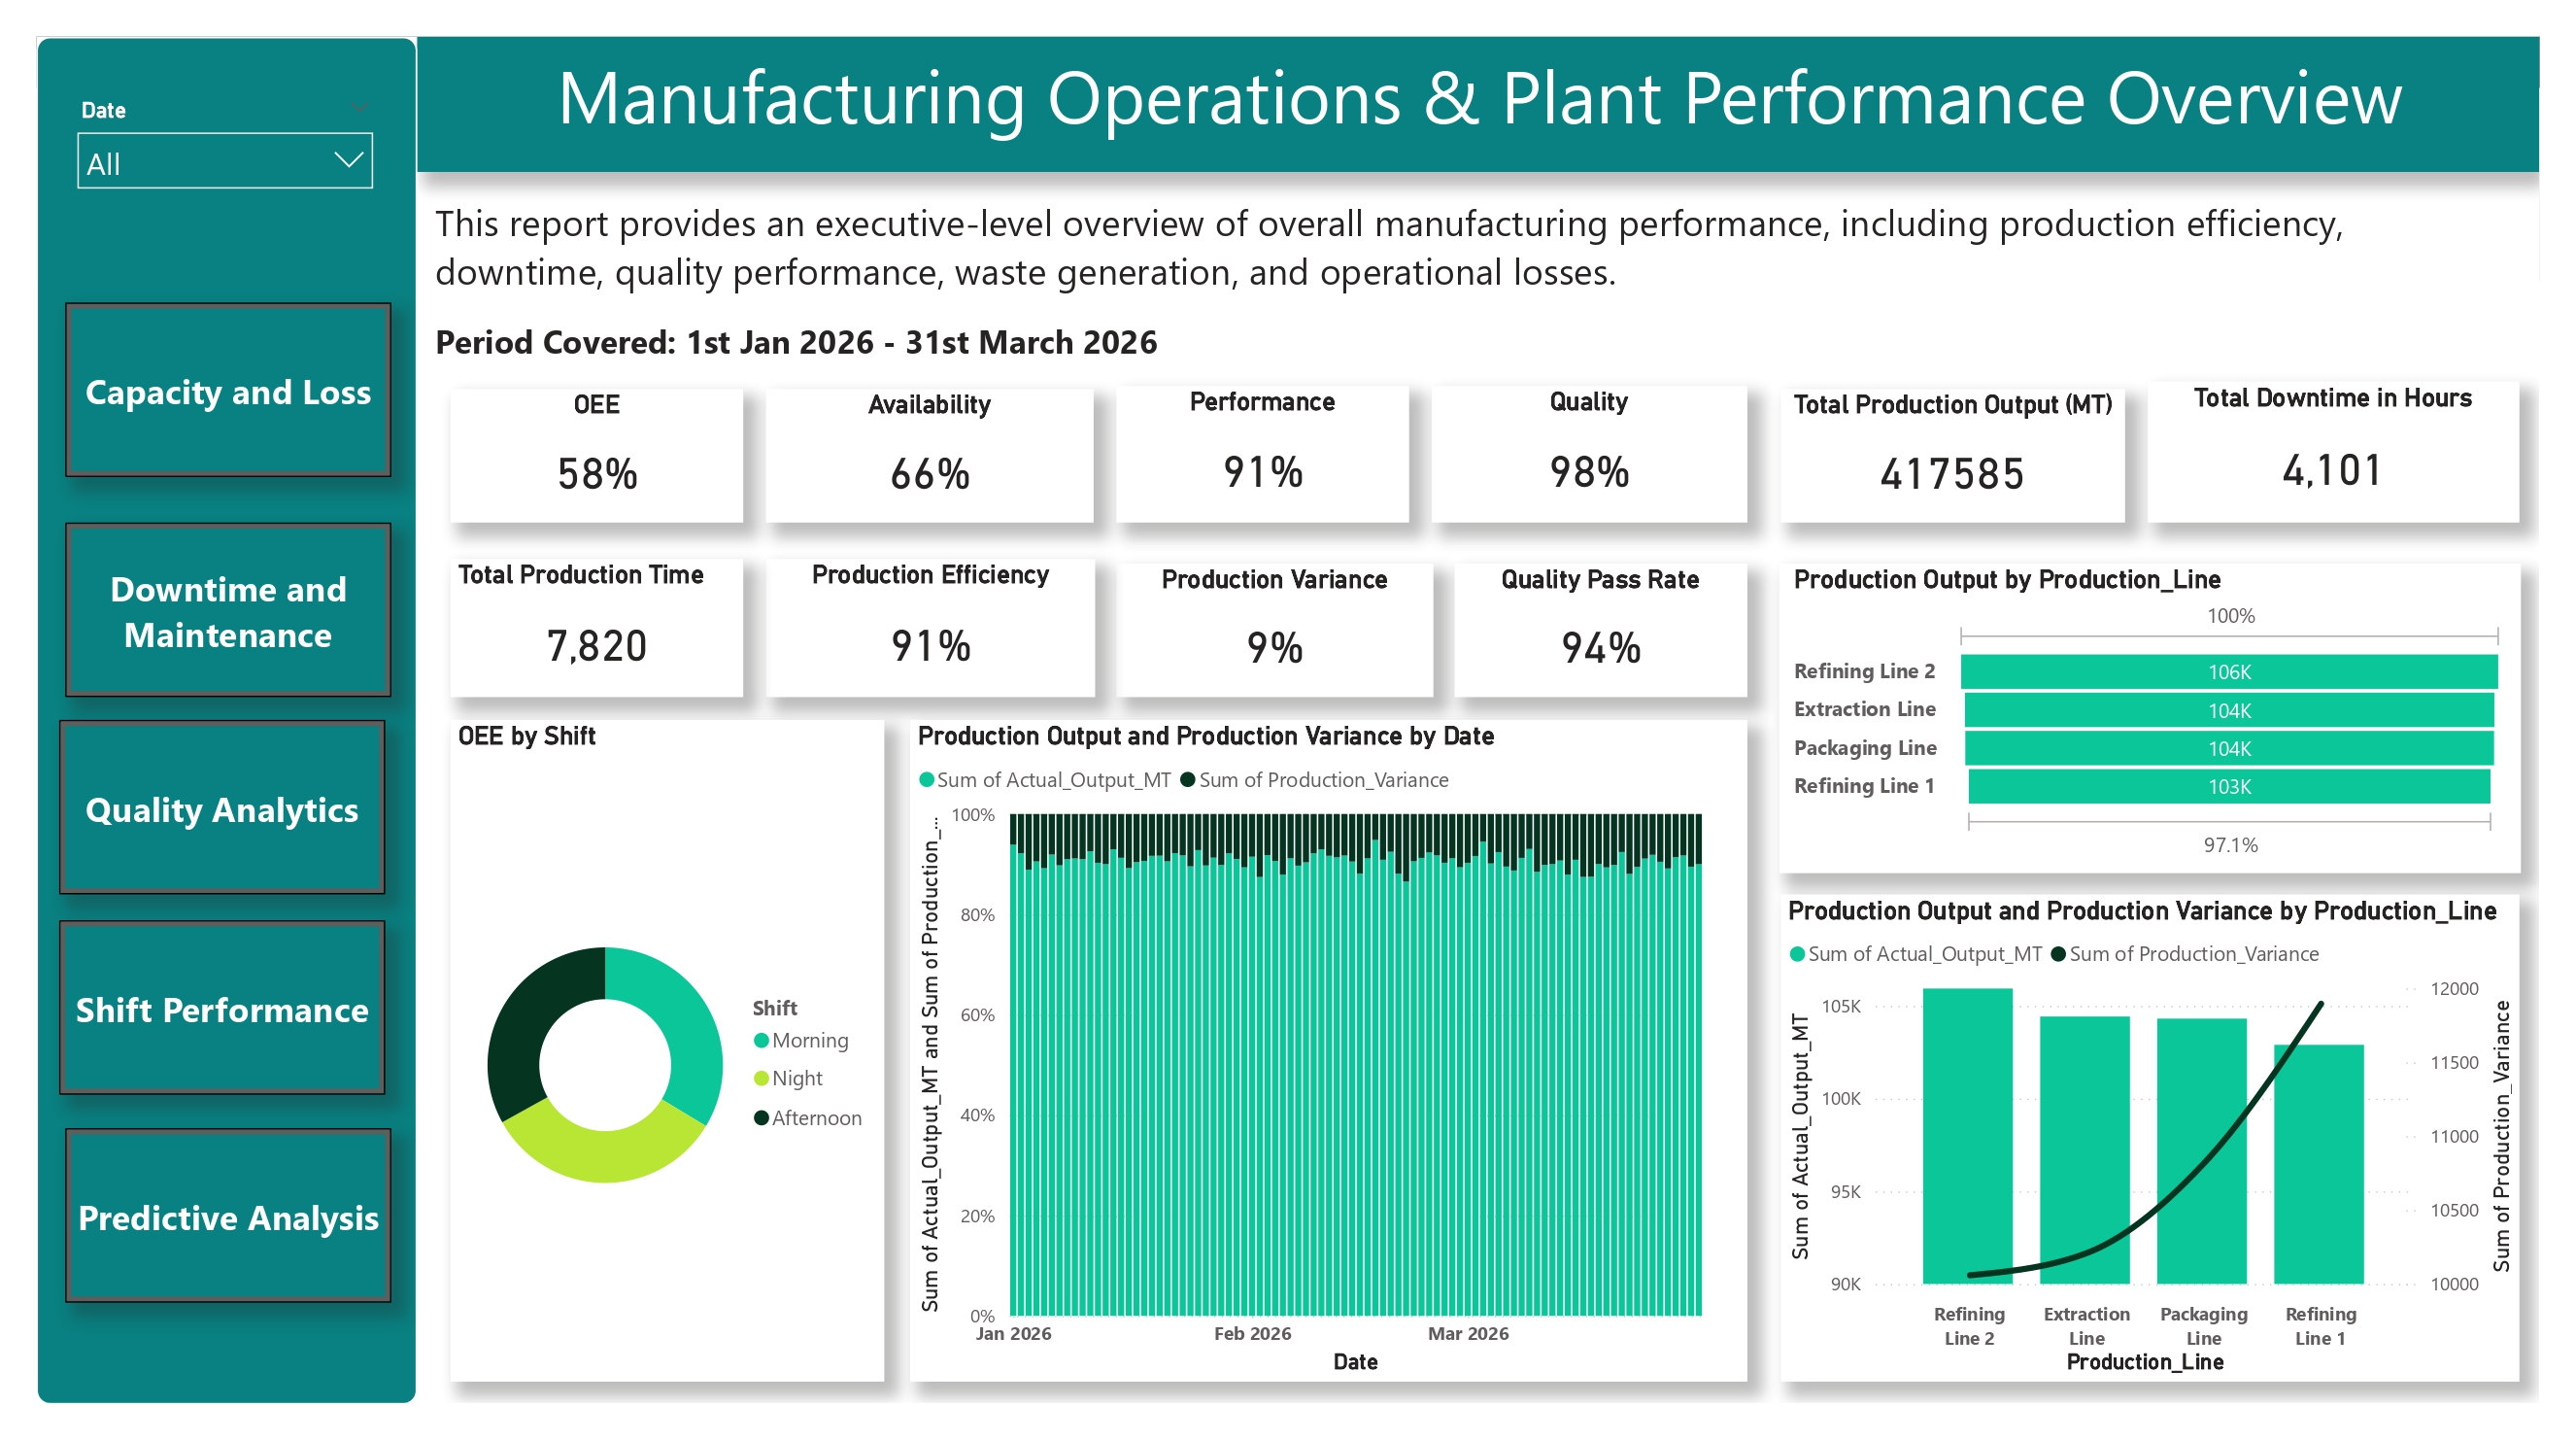

This screenshot's page, from the dashboard's own definition file:
{"tool":"powerbi","page":{"name":"Operations Overview","canvas":[1650,900],"ordinal":0},"visuals":[{"type":"card","title":"Production Variance","fields":{"Values":["Avg(Production_Data.Production_Loss(%))"]},"box":[711.6,346.5,209.3,88.4],"z":0},{"type":"card","title":"Production Efficiency ","fields":{"Values":["Avg(Production_Data.Efficiency_Percent)"]},"box":[481.4,344.2,216.3,90.7],"z":1000},{"type":"card","title":"Total Production Time ","fields":{"Values":["Sum(Production_Data.Production_Hours)"]},"box":[272.8,344.3,192.7,90.9],"z":2000},{"type":"card","title":"Total Production Output (MT)","fields":{"Values":["Sum(Production_Data.Actual_Output_MT)"]},"box":[1149.8,231.7,227.4,88.8],"z":3000},{"type":"card","title":"Total Downtime in Hours","fields":{"Values":["Sum(Downtime_Data.Downtime_Duration_Hour)"]},"box":[1392.3,227.4,244.7,93.1],"z":4000},{"type":"card","title":"Quality Pass Rate ","fields":{"Values":["Avg(Quality_Control.Quality_Pass_Rate_Percent)"]},"box":[934.9,346.5,193,88.4],"z":5000},{"type":"donutChart","title":"OEE by Shift","fields":{"Category":["Production_Data.Shift"],"Y":["Production_Data.OEE"]},"box":[272.8,450.4,285.8,435.2],"z":6000},{"type":"hundredPercentStackedColumnChart","title":"Production Output and Production Variance by Date","fields":{"Category":["Production_Data.Date"],"Y":["Sum(Production_Data.Actual_Output_MT)","Sum(Production_Data.Production_Loss)"]},"box":[576,450.4,552.2,435.2],"z":7000},{"type":"textbox","box":[251.2,0,1401,88.8],"z":8000},{"type":"funnel","title":"Production Output by Production_Line","fields":{"Category":["Production_Data.Production_Line"],"Y":["Sum(Production_Data.Actual_Output_MT)"]},"box":[1148.9,346.7,488.9,204.4],"z":9000},{"type":"lineClusteredColumnComboChart","title":"Production Output and Production Variance by Production_Line","fields":{"Category":["Production_Data.Production_Line"],"Y":["Sum(Production_Data.Actual_Output_MT)"],"Y2":["Sum(Production_Data.Production_Loss)"]},"box":[1149.8,565.2,487.2,320.5],"z":10000},{"type":"textbox","box":[0,0,251.2,900.8],"z":11000},{"type":"textbox","box":[257.7,99.6,1379.3,127.8],"z":12000},{"type":"card","title":"OEE","fields":{"Values":["Production_Data.OEE"]},"box":[272.8,231.7,192.7,88.8],"z":13000},{"type":"card","title":"Availability","fields":{"Values":["Production_Data.Availability"]},"box":[480.7,231.7,216.5,88.8],"z":14000},{"type":"card","title":"Performance","fields":{"Values":["Production_Data.Performance"]},"box":[712.4,229.5,192.7,90.9],"z":15000},{"type":"card","title":"Quality","fields":{"Values":["Production_Data.Quality"]},"box":[920.3,229.5,207.9,90.9],"z":16000},{"type":"slicer","fields":{"Values":["Production_Data.Date"]},"box":[17.3,34.6,214.4,108.3],"z":17000},{"type":"actionButton","box":[19.5,175.4,214.4,114.8],"z":18000},{"type":"actionButton","box":[19.5,320.5,214.4,114.8],"z":19000},{"type":"actionButton","box":[15.2,450.4,214.4,114.8],"z":20000},{"type":"actionButton","box":[15.2,582.5,214.4,114.8],"z":21000},{"type":"actionButton","box":[19.5,718.9,214.4,114.8],"z":22000}]}

Visuals, with their boxes on the page's 1650x900 design canvas (x1, y1, x2, y2). These are canvas units, not pixel positions in the 2576x1440 screenshot, which may show the page scaled, cropped or inside an application window:
"Production Variance" card: <bbox>712, 346, 921, 435</bbox>
"Production Efficiency " card: <bbox>481, 344, 698, 435</bbox>
"Total Production Time " card: <bbox>273, 344, 466, 435</bbox>
"Total Production Output (MT)" card: <bbox>1150, 232, 1377, 320</bbox>
"Total Downtime in Hours" card: <bbox>1392, 227, 1637, 320</bbox>
"Quality Pass Rate " card: <bbox>935, 346, 1128, 435</bbox>
"OEE by Shift" donutChart: <bbox>273, 450, 559, 886</bbox>
"Production Output and Production Variance by Date" hundredPercentStackedColumnChart: <bbox>576, 450, 1128, 886</bbox>
textbox: <bbox>251, 0, 1652, 89</bbox>
"Production Output by Production_Line" funnel: <bbox>1149, 347, 1638, 551</bbox>
"Production Output and Production Variance by Production_Line" lineClusteredColumnComboChart: <bbox>1150, 565, 1637, 886</bbox>
textbox: <bbox>0, 0, 251, 901</bbox>
textbox: <bbox>258, 100, 1637, 227</bbox>
"OEE" card: <bbox>273, 232, 466, 320</bbox>
"Availability" card: <bbox>481, 232, 697, 320</bbox>
"Performance" card: <bbox>712, 230, 905, 320</bbox>
"Quality" card: <bbox>920, 230, 1128, 320</bbox>
slicer - Production_Data.Date: <bbox>17, 35, 232, 143</bbox>
actionButton: <bbox>20, 175, 234, 290</bbox>
actionButton: <bbox>20, 320, 234, 435</bbox>
actionButton: <bbox>15, 450, 230, 565</bbox>
actionButton: <bbox>15, 582, 230, 697</bbox>
actionButton: <bbox>20, 719, 234, 834</bbox>
